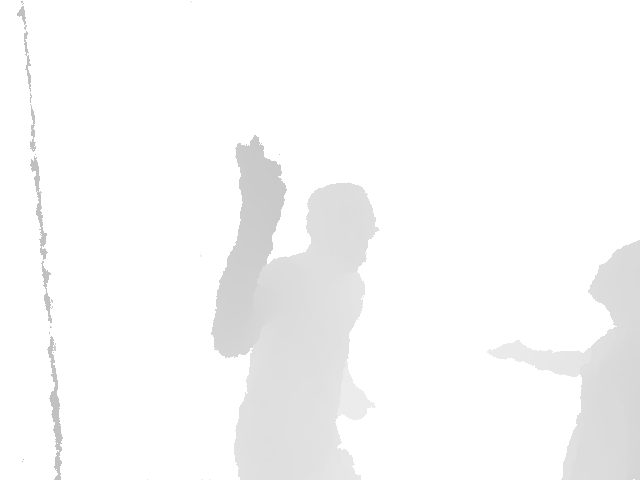hand: (235, 134, 287, 221)
head: (306, 182, 380, 272), (587, 237, 640, 304)
person: (209, 134, 379, 480), (486, 237, 640, 480)
